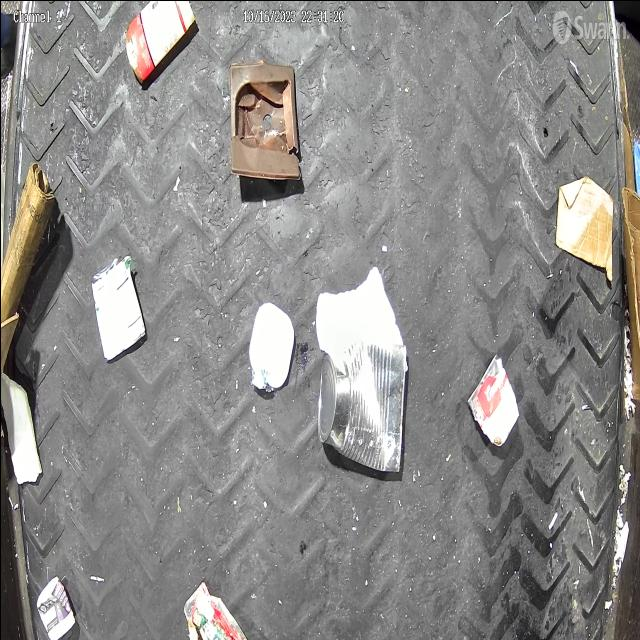can: (317, 339, 405, 471), (90, 253, 146, 363), (467, 352, 519, 447)
